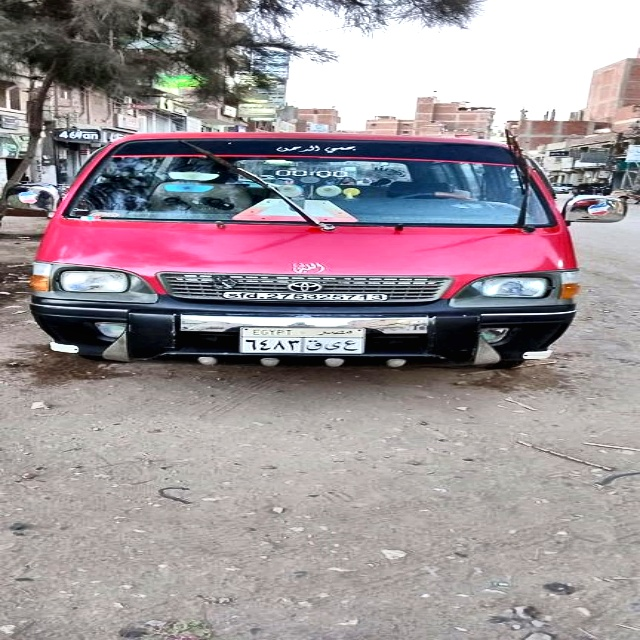License Plate: (239, 327, 367, 355)
